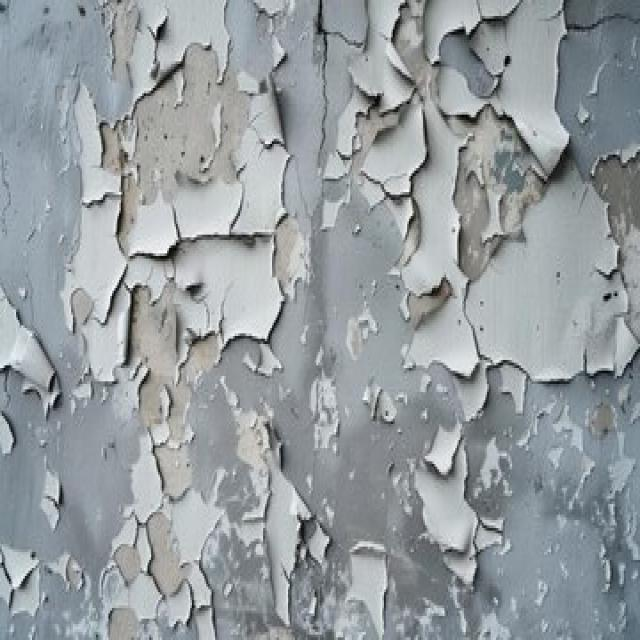Paint peeling: (4, 15, 631, 637)
